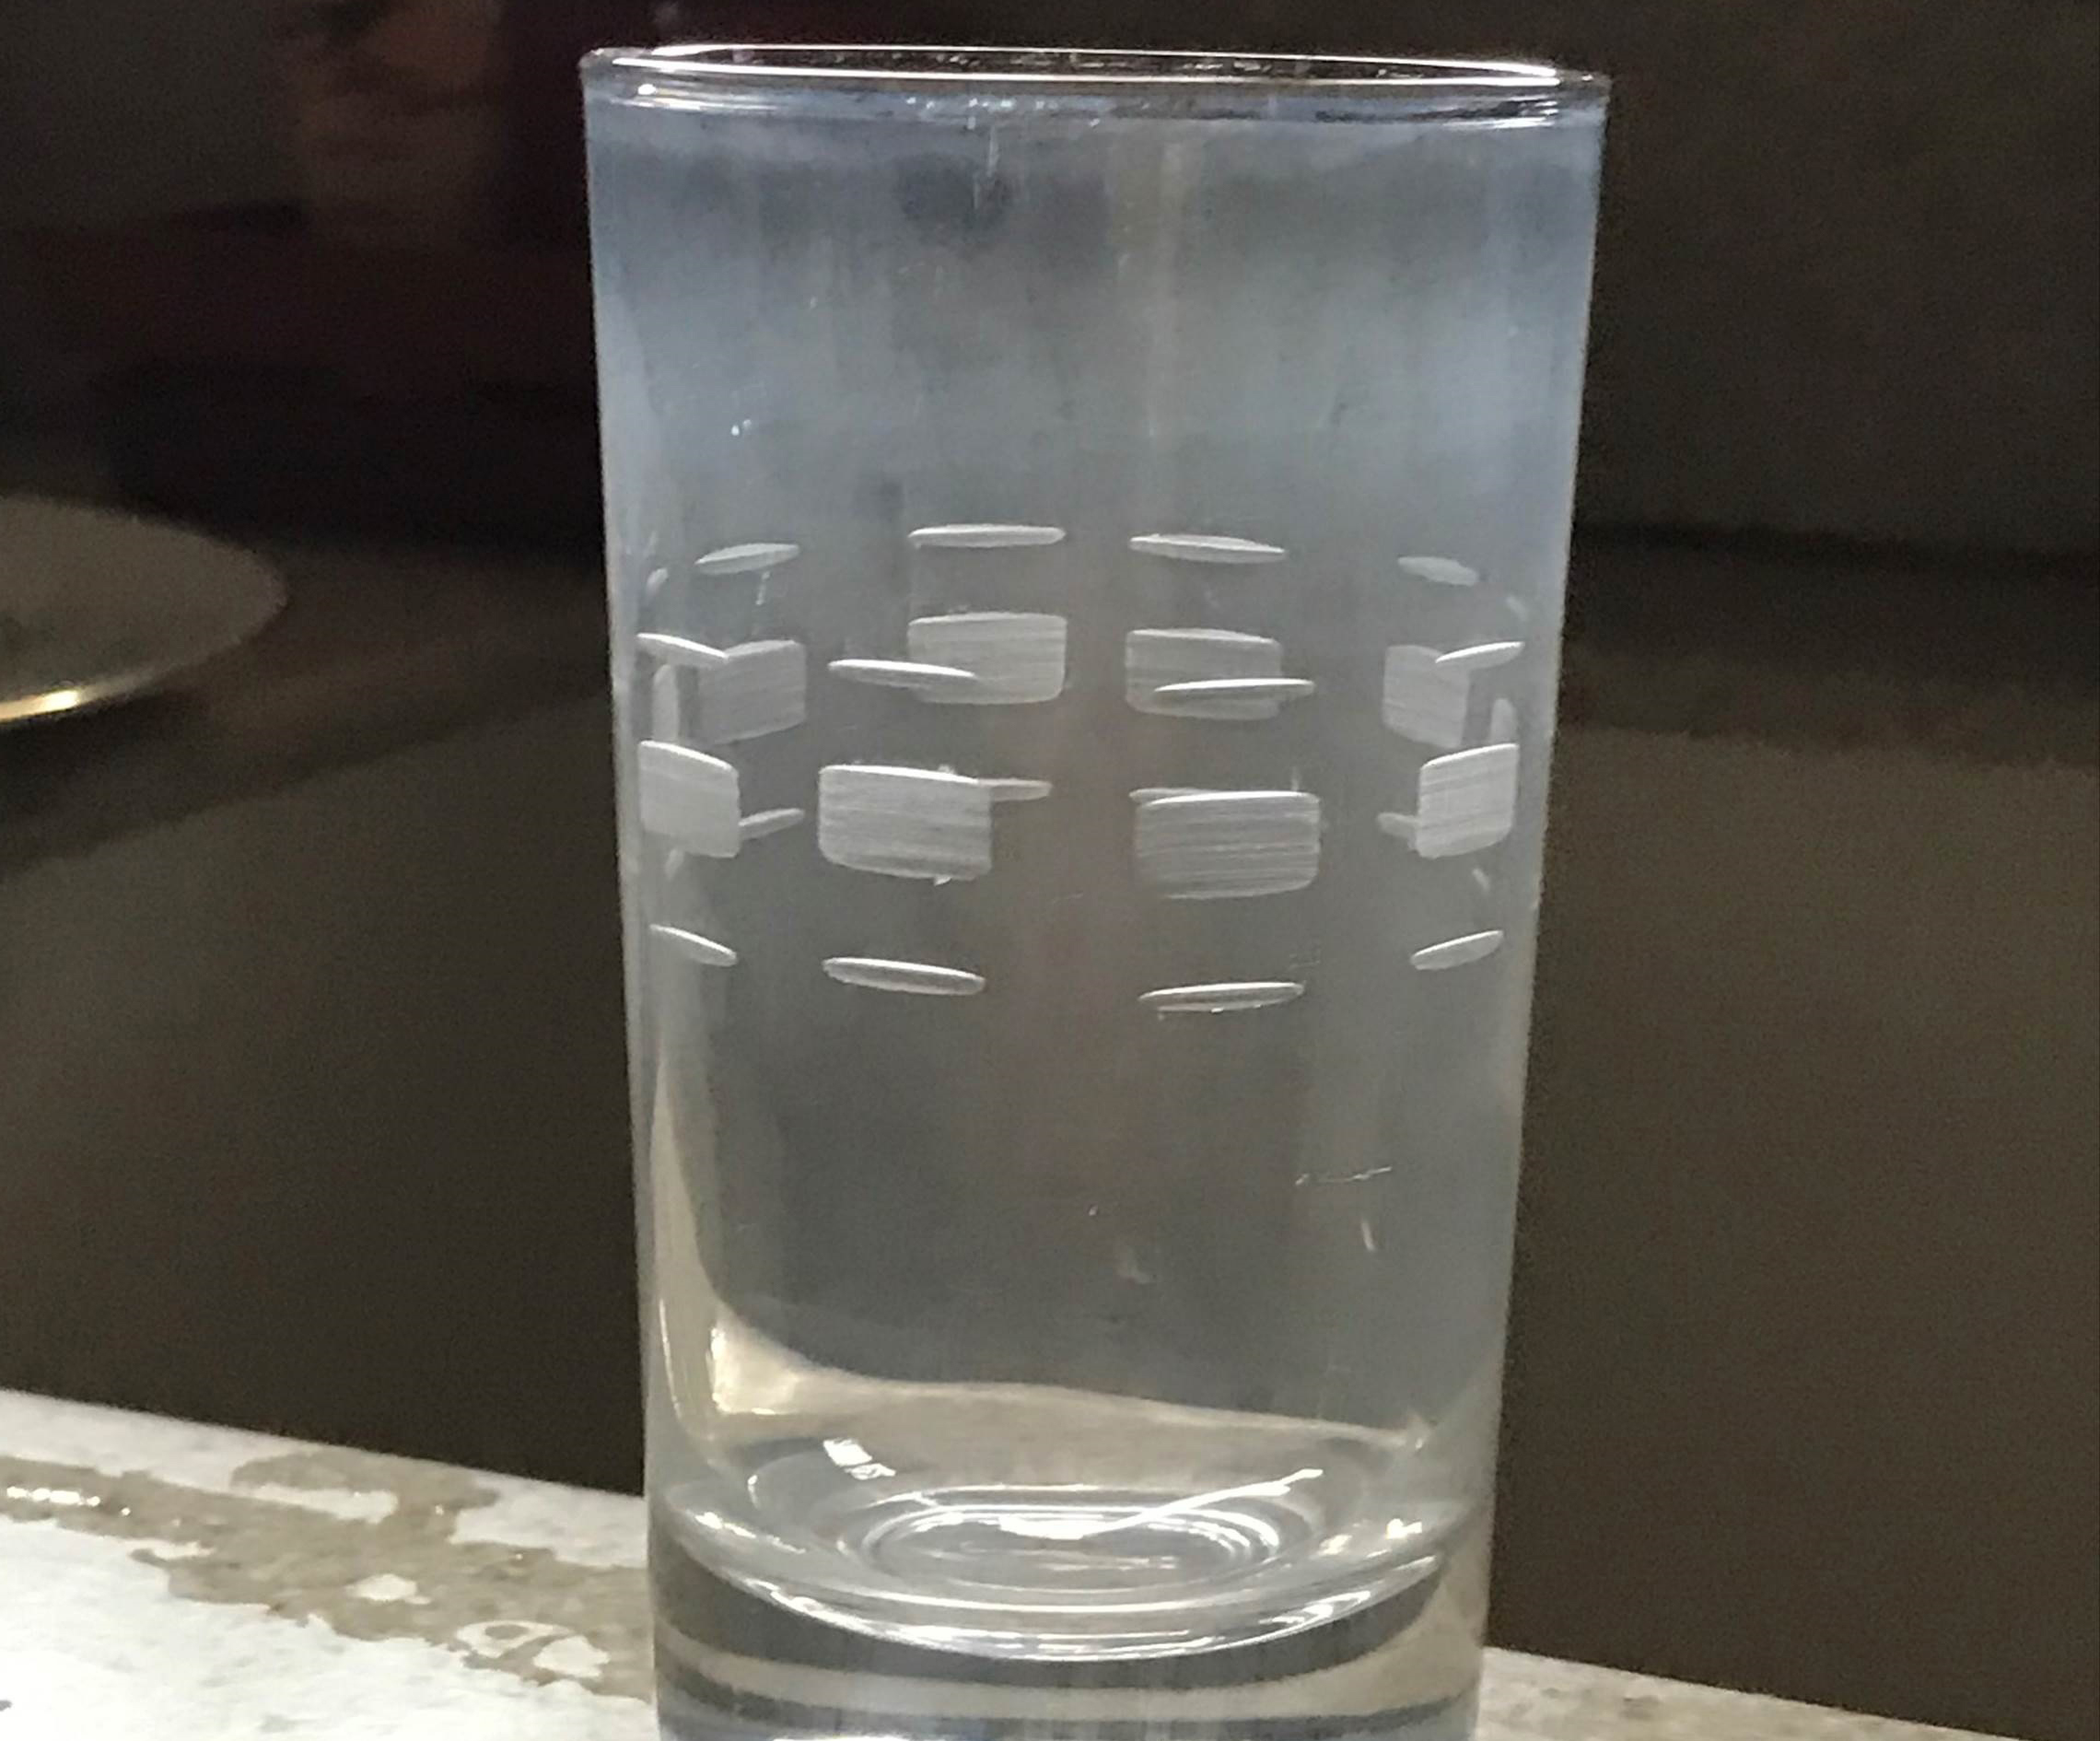glass: (570, 35, 1615, 1741)
